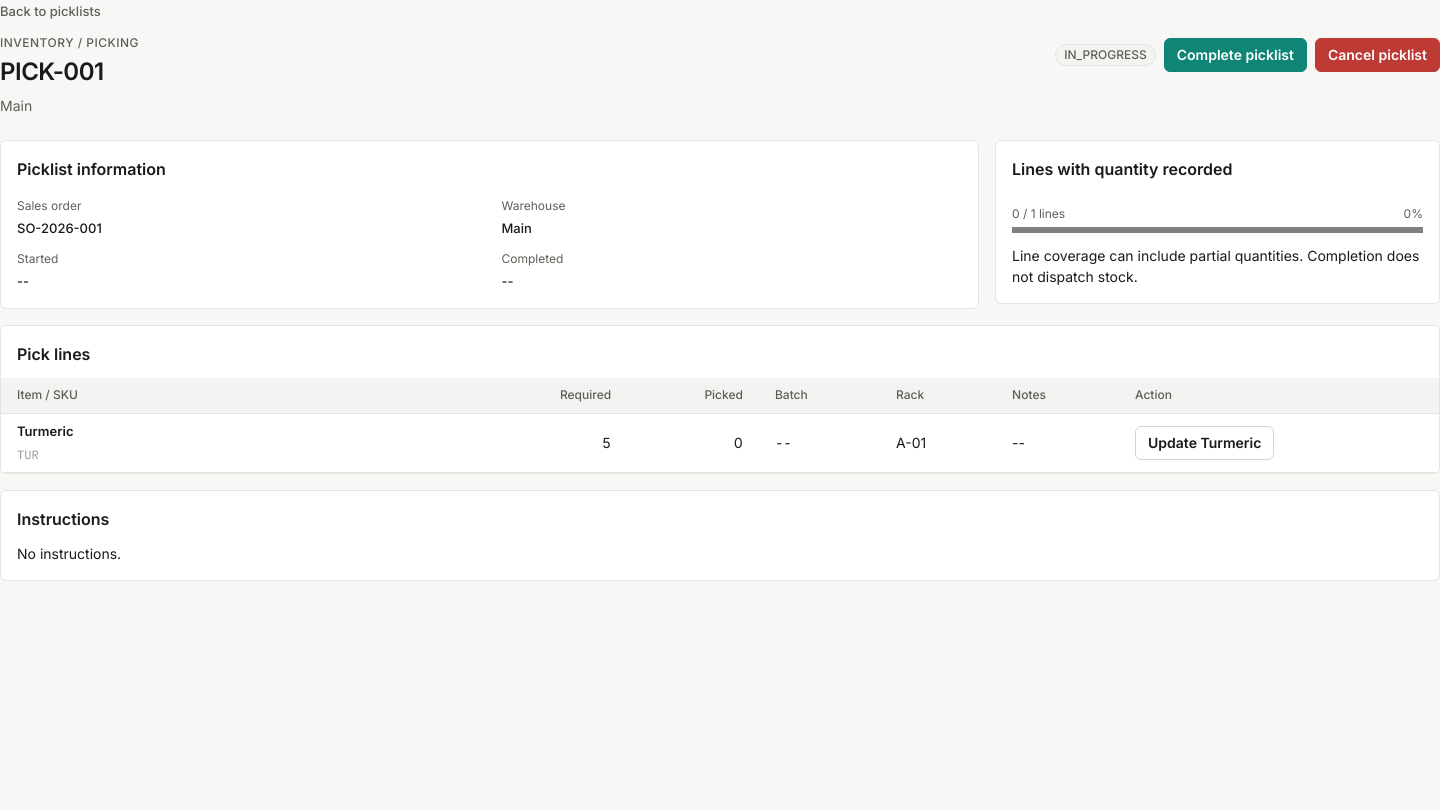
makes partial completion explicit without claiming shipment
Click the button "Complete picklist" at (1235, 54), box [1164, 38, 1307, 72]
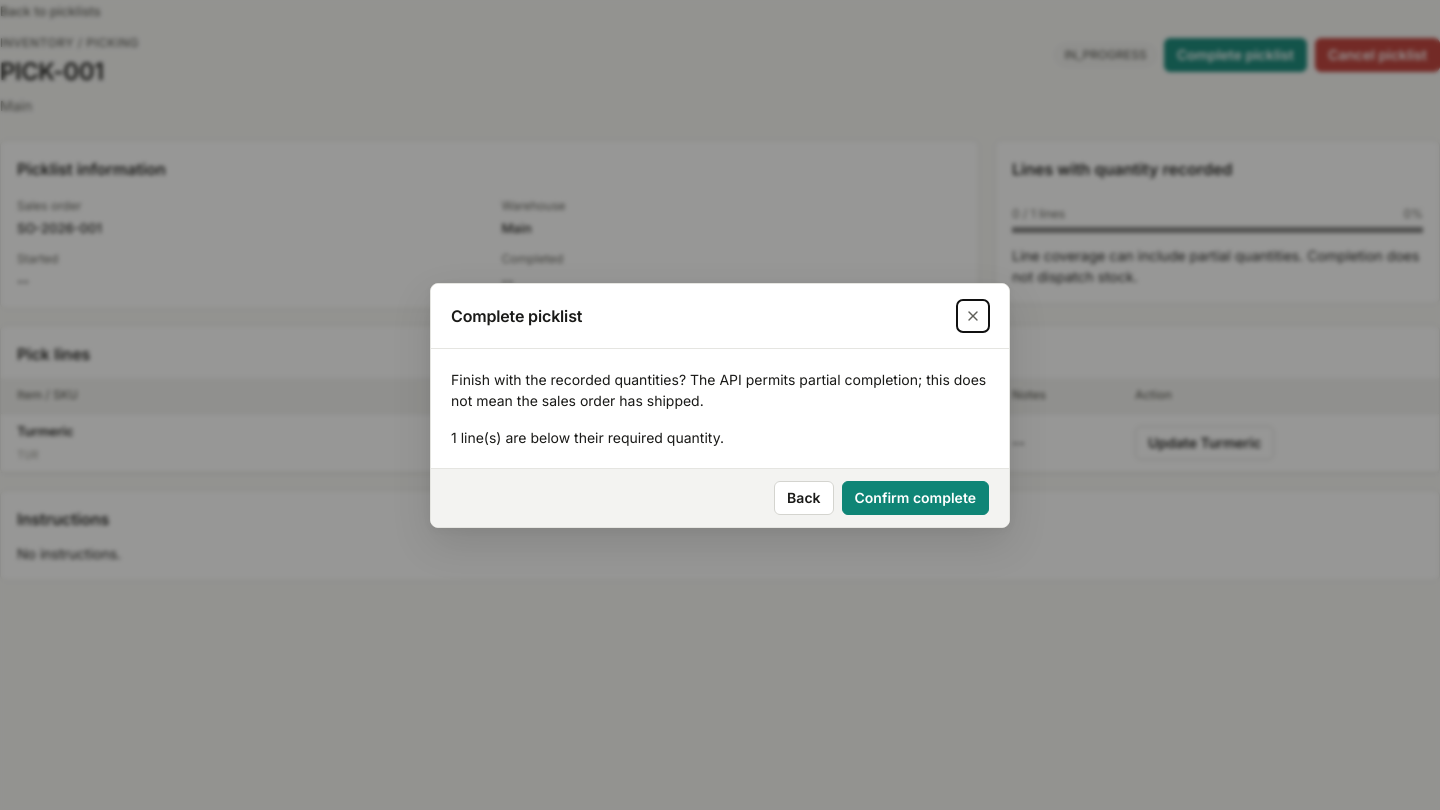
Check: the dialog "Complete picklist" shows "1 line(s) are below their required quantity", box [430, 282, 1010, 528]
Check: the dialog "Complete picklist" shows "does not mean the sales order has shipped", box [451, 370, 986, 408]
